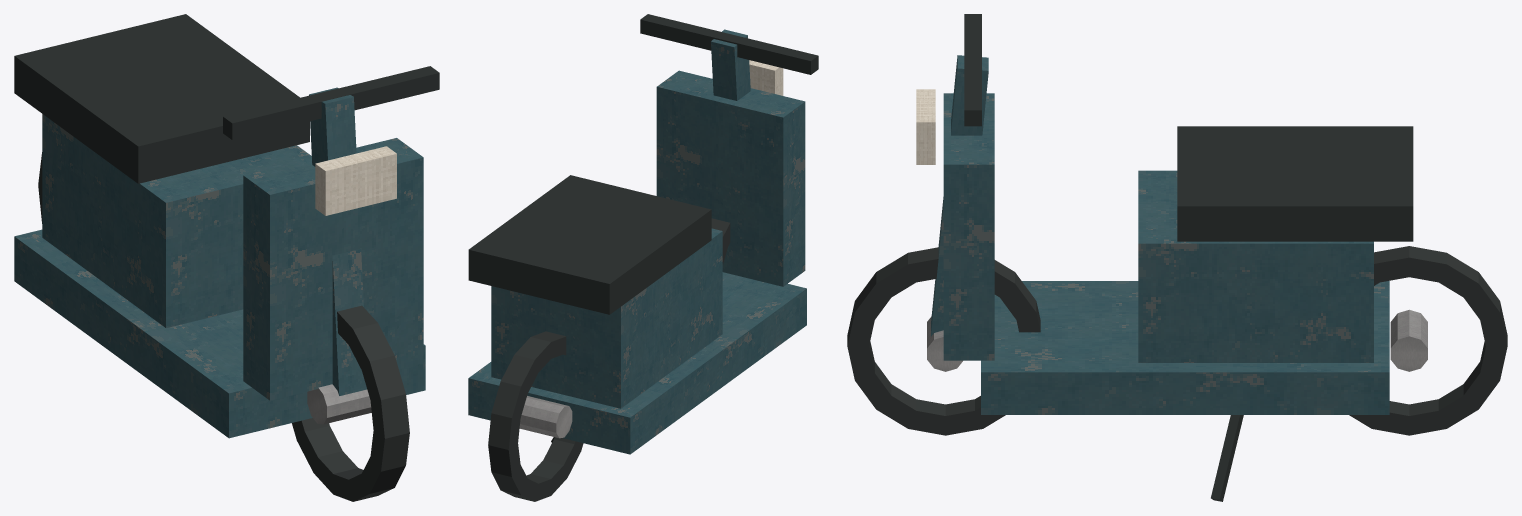
File: city_scooter.glb
The picture shows the model from 3 angles, left to right: view 1: azimuth 30°, elevation 25°; view 2: azimuth 150°, elevation 25°; view 3: azimuth 270°, elevation 25°; orthographic projection. The views are drawn at different scales.
Parts seen in each view (by area): view 1: root; view 2: root; view 3: root.
Boxes of the visible parts, x1=… form: root: x1=14, y1=14, x2=439, y2=501; root: x1=468, y1=14, x2=818, y2=501; root: x1=847, y1=14, x2=1507, y2=501.
Size of the model in its own units: 0.58 by 1.13 by 1.68.
1 material, 1 textured.
